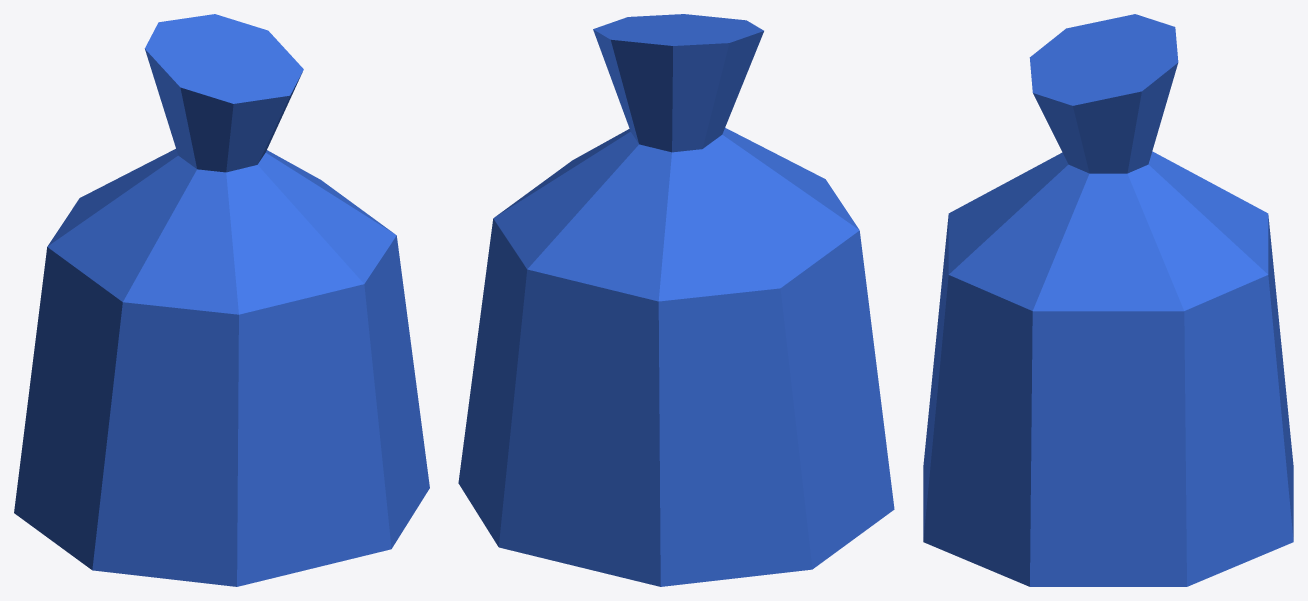
The model's file is Collision_Bag.fbx.
3 renders of one model, left to right at view 1: azimuth 30°, elevation 25°; view 2: azimuth 150°, elevation 25°; view 3: azimuth 270°, elevation 25°, orthographic. The views are drawn at different scales.
Visible parts, largest first — view 1: UCX_Bag_1, UCX_Bag_2; view 2: UCX_Bag_1, UCX_Bag_2; view 3: UCX_Bag_1, UCX_Bag_2.
Boxes of the visible parts, bbox=[...] form: UCX_Bag_1: bbox=[14, 149, 429, 586]; UCX_Bag_2: bbox=[144, 14, 303, 172]; UCX_Bag_1: bbox=[458, 127, 894, 586]; UCX_Bag_2: bbox=[593, 14, 763, 152]; UCX_Bag_1: bbox=[923, 151, 1293, 586]; UCX_Bag_2: bbox=[1029, 14, 1178, 173].
Bounding box in the file's own units: 61.9 × 80.81 × 58.62.
